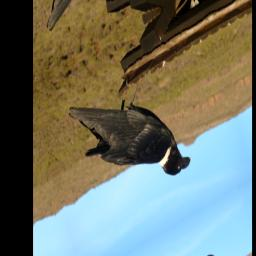Crow: (67, 51, 194, 227)
